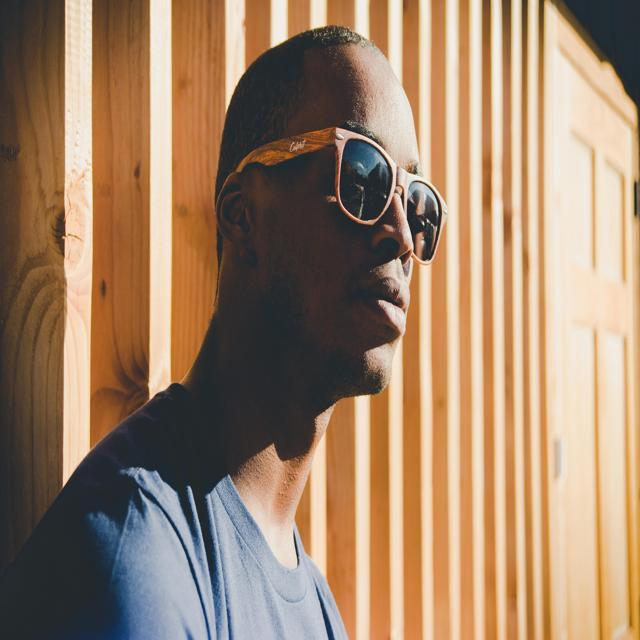2_gafas: (290, 125, 446, 263)
